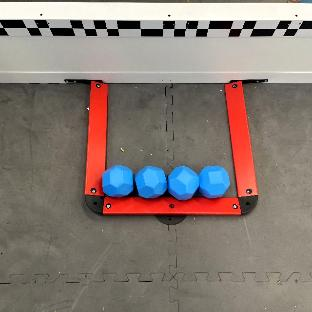Parking-R: (84, 81, 257, 214)
V5_BLUE: (103, 166, 229, 200), (135, 167, 167, 198)
